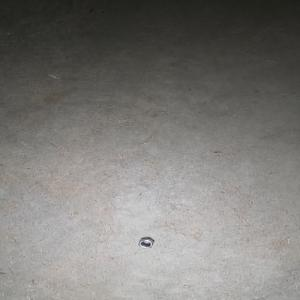Nut: (136, 235, 154, 247)
